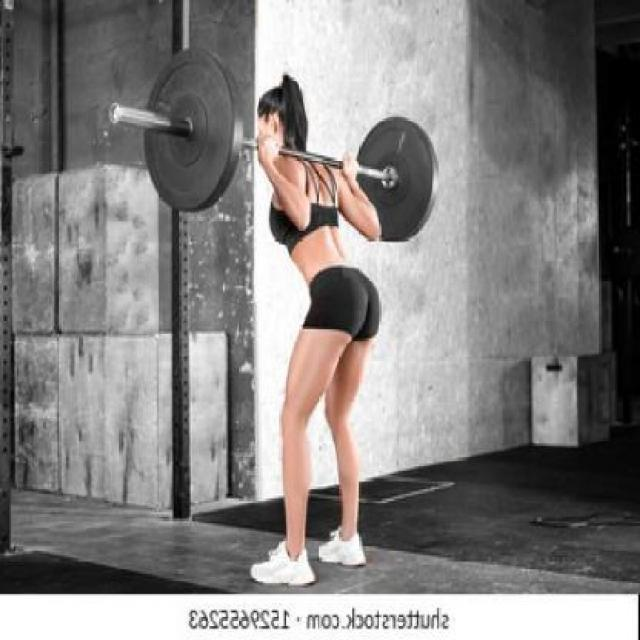Barbell: (107, 93, 124, 129)
